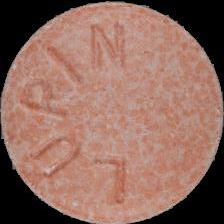68180-515: (0, 0, 224, 224)
